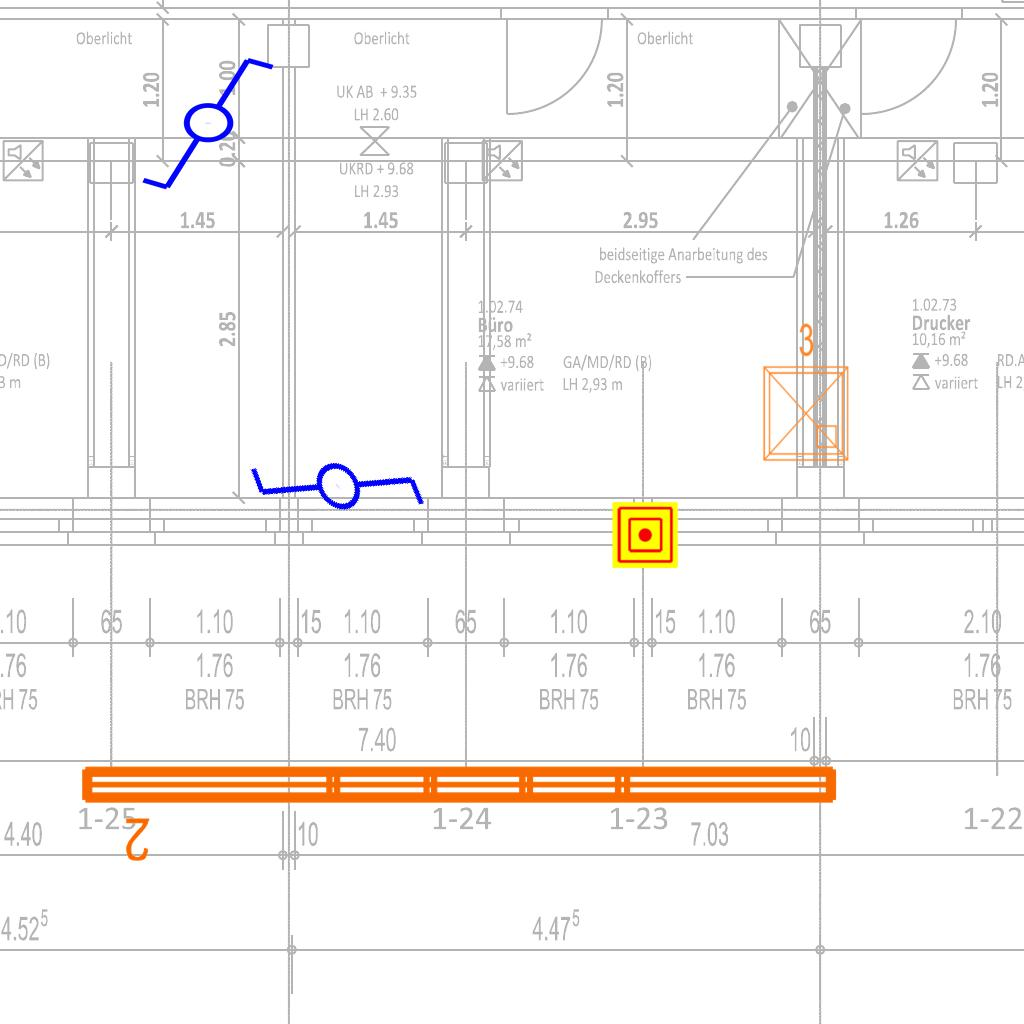Ambulanz_Pendelleuchte_LED: (73, 754, 847, 866)
Einbaudownlights_LED_Konferenzraeume: (752, 318, 856, 468)
NAM-Nichtautomatischer_Melder: (612, 502, 678, 568)
Wechselschalter: (236, 387, 447, 601), (138, 53, 295, 197)
